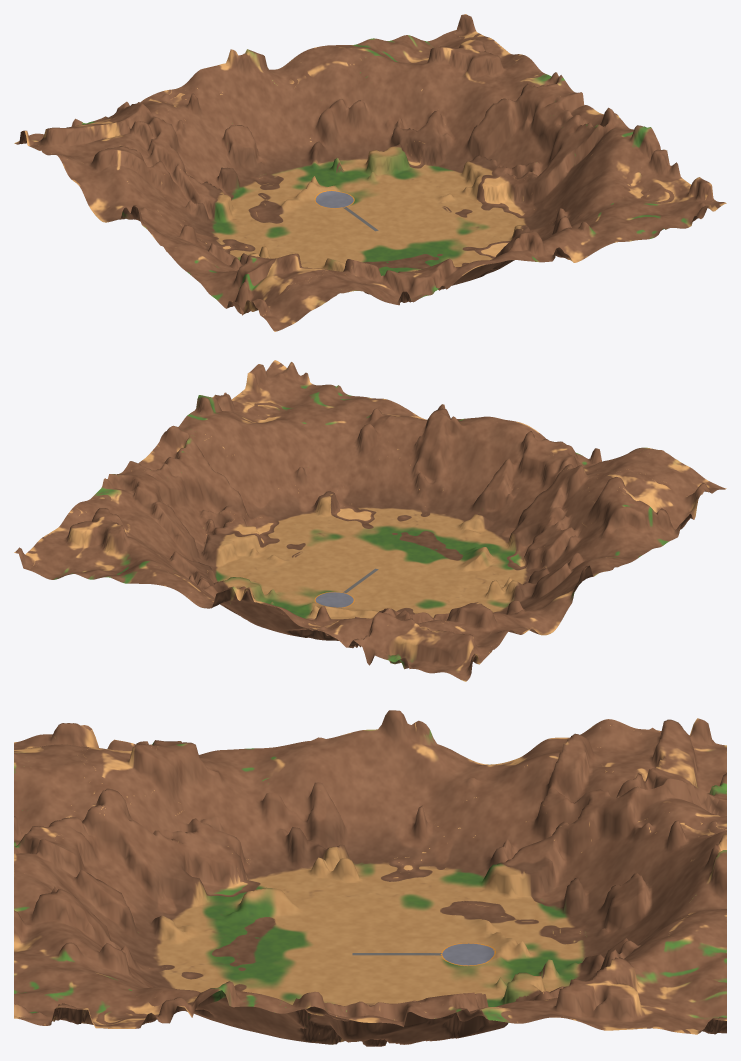
File: island.glb
3 views of the same model, one above another, from view 1: azimuth 30°, elevation 25°; view 2: azimuth 150°, elevation 25°; view 3: azimuth 270°, elevation 25° (orthographic). The views are drawn at different scales.
Parts seen in each view (by area): view 1: Island; view 2: Island; view 3: Island.
Part boxes in pixels (x1=…): Island: x1=14, y1=14, x2=726, y2=331; Island: x1=14, y1=360, x2=726, y2=681; Island: x1=14, y1=710, x2=726, y2=1046.
Bounding box in the file's own units: 2400 × 434 × 2400.
Materials: 1 (1 with a texture image).
